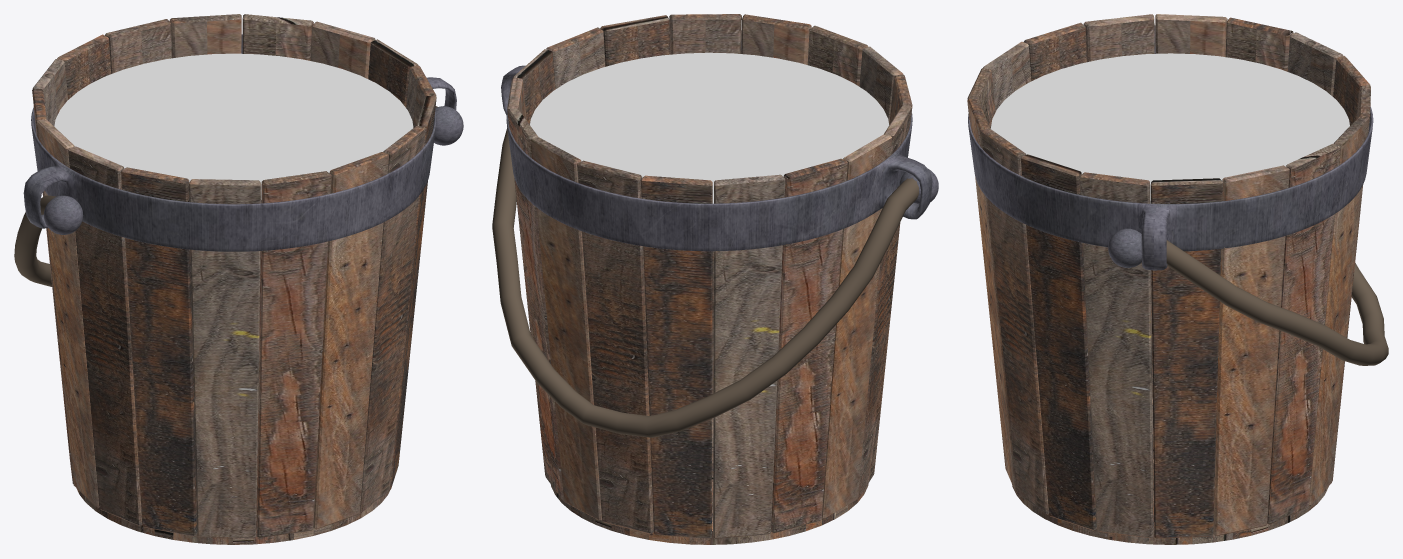
File: Bucket.fbx
3 renders of one model, left to right at view 1: azimuth 30°, elevation 25°; view 2: azimuth 150°, elevation 25°; view 3: azimuth 270°, elevation 25°, orthographic.
Visible parts, largest first — view 1: bucket, bottom bucket.001, metal bucket ring, bottom bucket, rope 2, ball bearing right, ball bearing left; view 2: bucket, bottom bucket.001, metal bucket ring, rope 2, bottom bucket; view 3: bucket, bottom bucket.001, metal bucket ring, rope 2, bottom bucket, ball bearing left.
Part boxes in pixels (left/top/right/bottom): bucket: left=32, top=14, right=436, bottom=538; bottom bucket.001: left=54, top=53, right=413, bottom=199; metal bucket ring: left=23, top=34, right=456, bottom=251; bottom bucket: left=76, top=409, right=389, bottom=544; rope 2: left=14, top=106, right=437, bottom=286; ball bearing right: left=44, top=195, right=83, bottom=234; ball bearing left: left=434, top=106, right=463, bottom=145; bucket: left=507, top=14, right=912, bottom=538; bottom bucket.001: left=530, top=52, right=889, bottom=203; metal bucket ring: left=501, top=41, right=932, bottom=251; rope 2: left=492, top=128, right=918, bottom=437; bottom bucket: left=551, top=418, right=868, bottom=544; bucket: left=967, top=14, right=1370, bottom=538; bottom bucket.001: left=990, top=53, right=1349, bottom=203; metal bucket ring: left=968, top=25, right=1373, bottom=270; rope 2: left=1166, top=240, right=1388, bottom=365; bottom bucket: left=1012, top=399, right=1328, bottom=544; ball bearing left: left=1108, top=228, right=1141, bottom=267.
Bounding box in the file's own units: 46.42 × 39.68 × 40.03.
4 materials, 2 textured.
